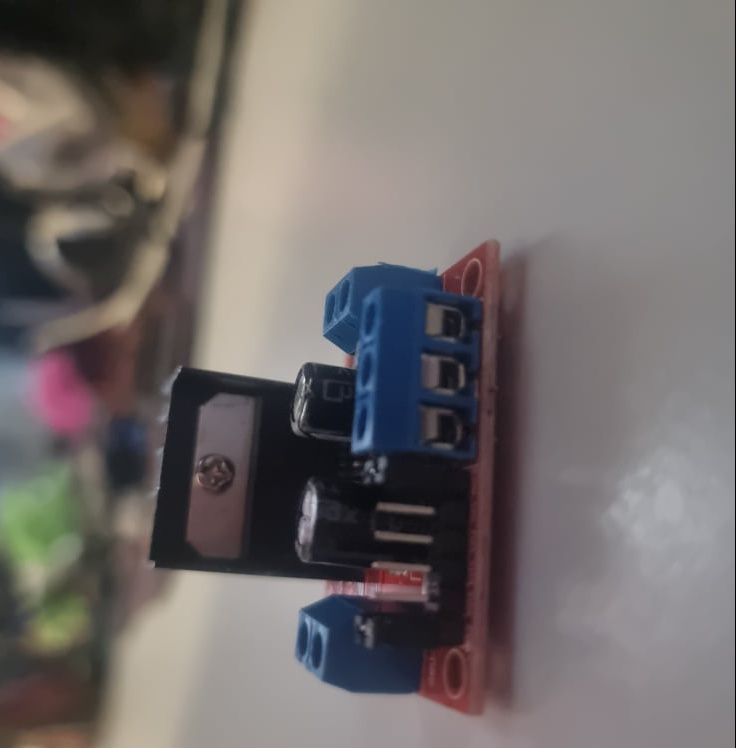MOTOR: (149, 240, 510, 723)
